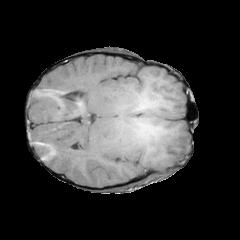glioma: (109, 82, 169, 170)
